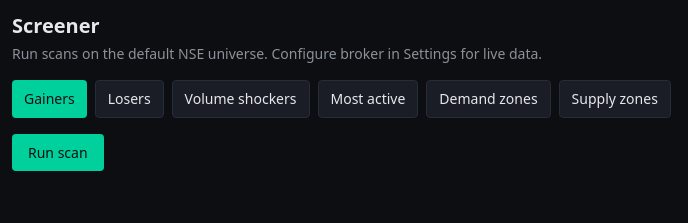
Screener › shows error when scan API fails
Click the button "Run scan" at (58, 152), box x1=12 y1=134 x2=104 y2=171
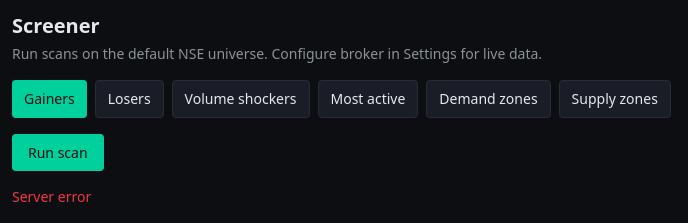
Result: the text "Server error" is shown at x1=12 y1=187 x2=91 y2=206
